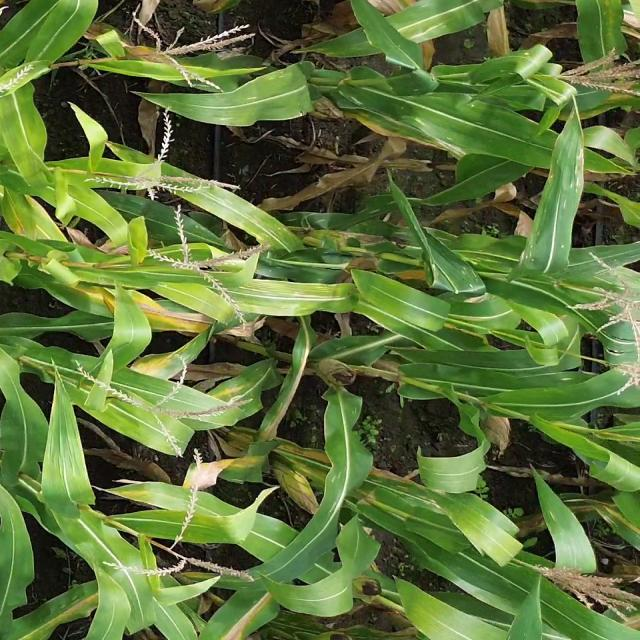gray-leaf-spot: (223, 278, 363, 321), (211, 190, 303, 252)
northern-leaf-blight: (344, 98, 444, 152), (220, 586, 288, 640), (187, 454, 258, 491), (137, 342, 195, 383), (116, 479, 166, 516), (58, 589, 102, 624)
southern-leaf-blight: (541, 138, 590, 232), (367, 468, 452, 520)
